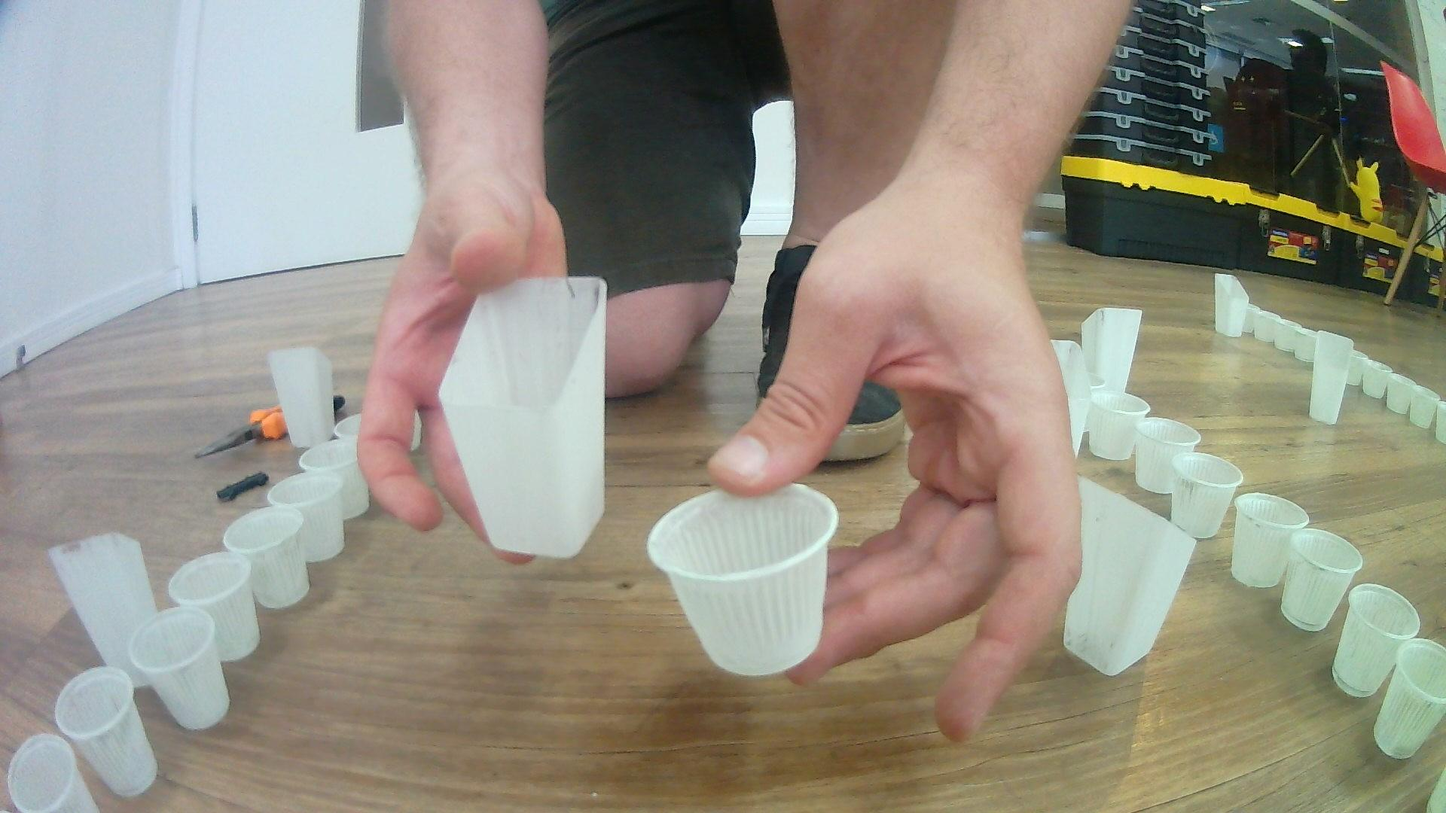erva_daninha: (441, 274, 610, 561), (1065, 473, 1198, 679), (50, 533, 158, 684), (267, 346, 336, 450), (1080, 306, 1144, 396), (1048, 339, 1092, 458), (1308, 330, 1356, 427), (1213, 273, 1251, 338)
planta: (644, 483, 840, 678), (53, 665, 158, 798), (125, 607, 231, 732), (166, 551, 262, 664), (1329, 583, 1422, 697), (220, 507, 310, 609), (1371, 638, 1446, 760), (1278, 528, 1365, 632), (1229, 492, 1311, 589), (5, 732, 101, 813), (266, 470, 345, 560), (1171, 452, 1245, 540), (298, 437, 370, 522), (1133, 416, 1203, 495), (1087, 391, 1152, 461), (1408, 385, 1441, 430), (1387, 372, 1416, 416), (1362, 360, 1393, 400), (1253, 309, 1284, 343), (1348, 349, 1374, 388), (1274, 318, 1301, 352), (1240, 301, 1268, 333), (1294, 327, 1318, 363), (332, 414, 362, 440), (1434, 400, 1446, 444), (1088, 368, 1106, 395)
